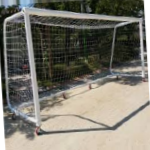goals: (2, 4, 147, 123)
